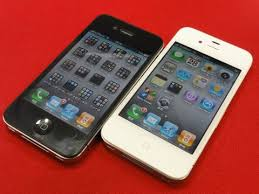iphone: (1, 7, 161, 170), (106, 25, 259, 183)
iphone4: (3, 7, 164, 170), (106, 25, 259, 183)
